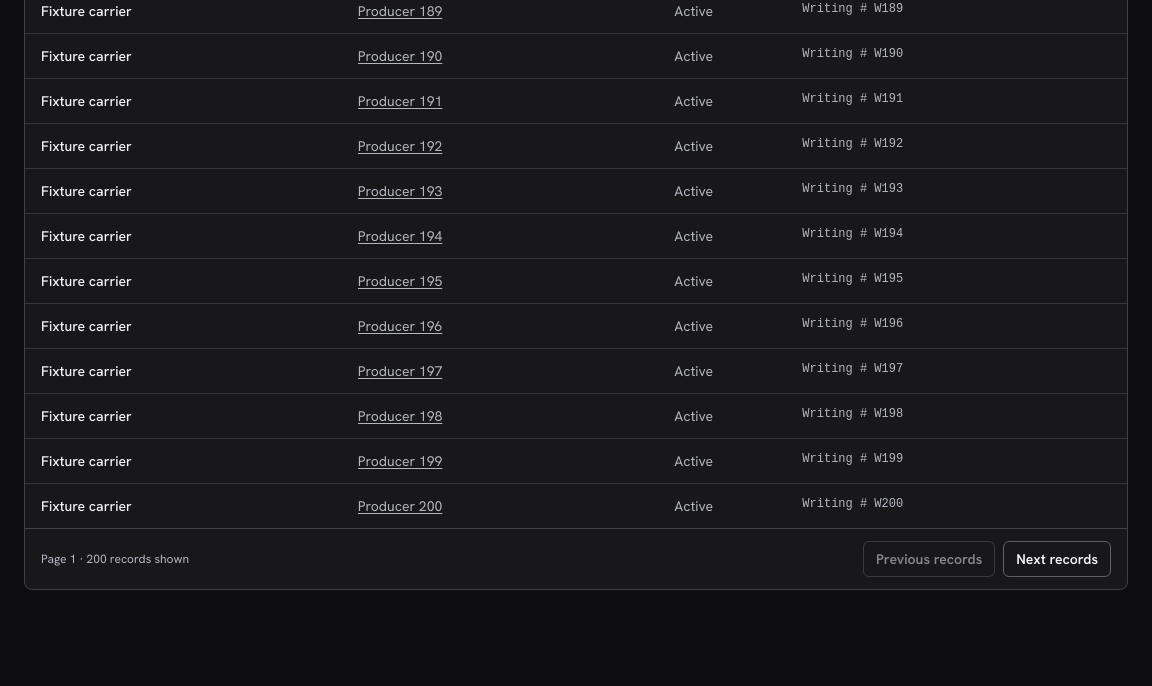
Test: contract management workflow › reaches record 201, links its producer, and resets to the first page for a new search
(page scrolled)
Expected: the text "Page 1 · 200 records shown" is shown, [41,551,189,567]
Expected: the button "Previous records" is disabled, [863,541,995,577]
Step 1. Click the button "Next records" → [1057, 559], box [1003,541,1111,577]
(page scrolled)
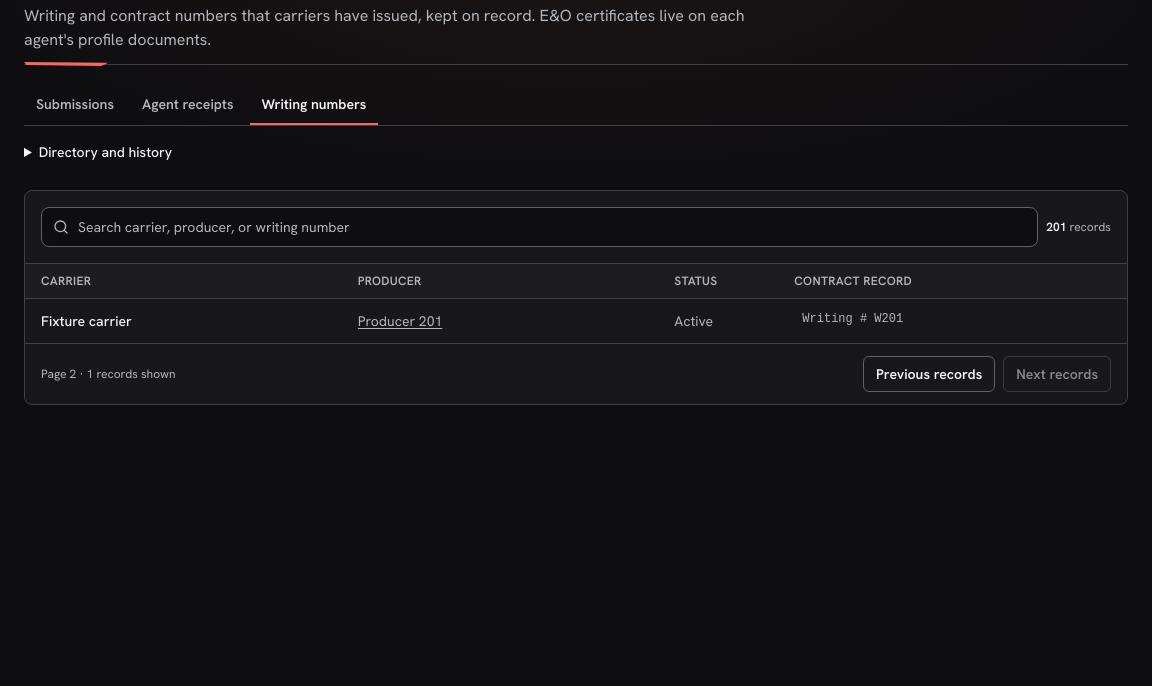
Expected: the text "Page 2 · 1 records shown" is shown, [41,366,176,382]
Expected: the button "Next records" is disabled, [1003,356,1111,392]
Step 2. Type "W7" into the field named "Search contract records" → [540, 227], box [41,207,1038,247]
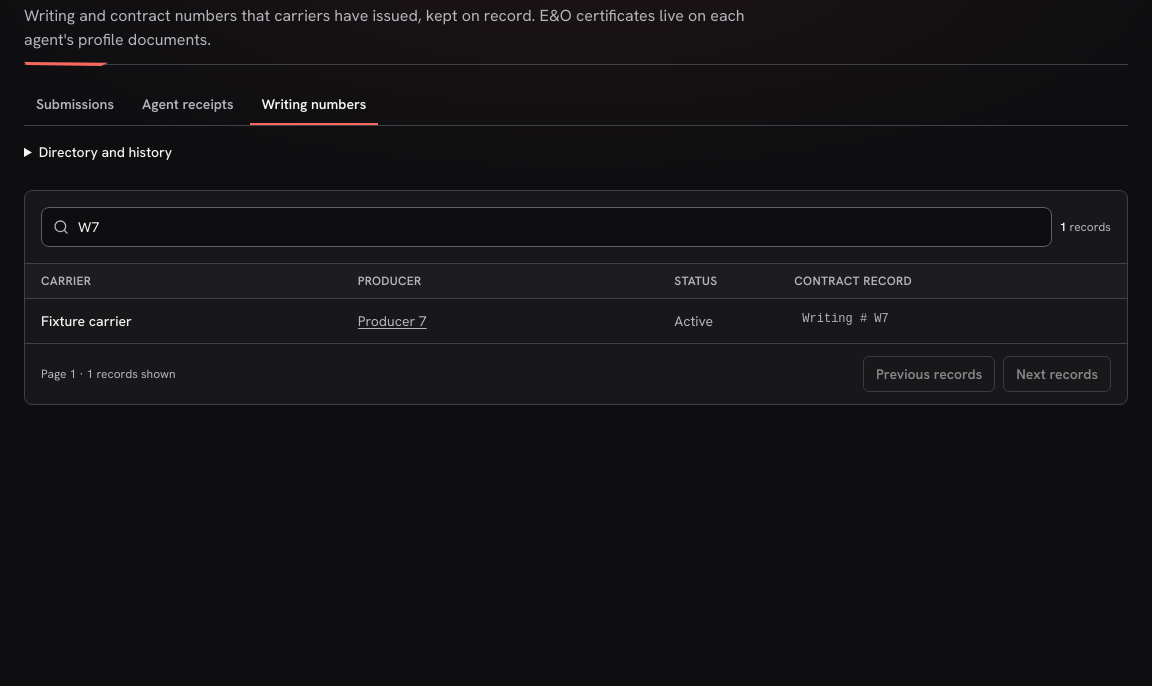
Expected: the text "Page 1 · 1 records shown" is shown, [41,366,176,382]
Expected: the button "Previous records" is disabled, [863,356,995,392]
